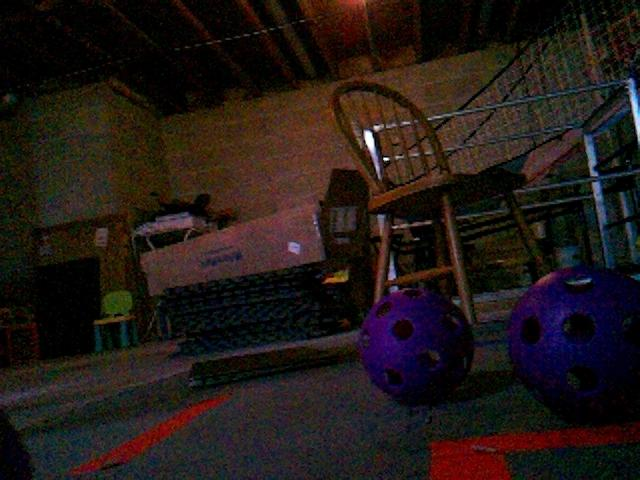Purple: (501, 266, 640, 422), (357, 285, 477, 407)
